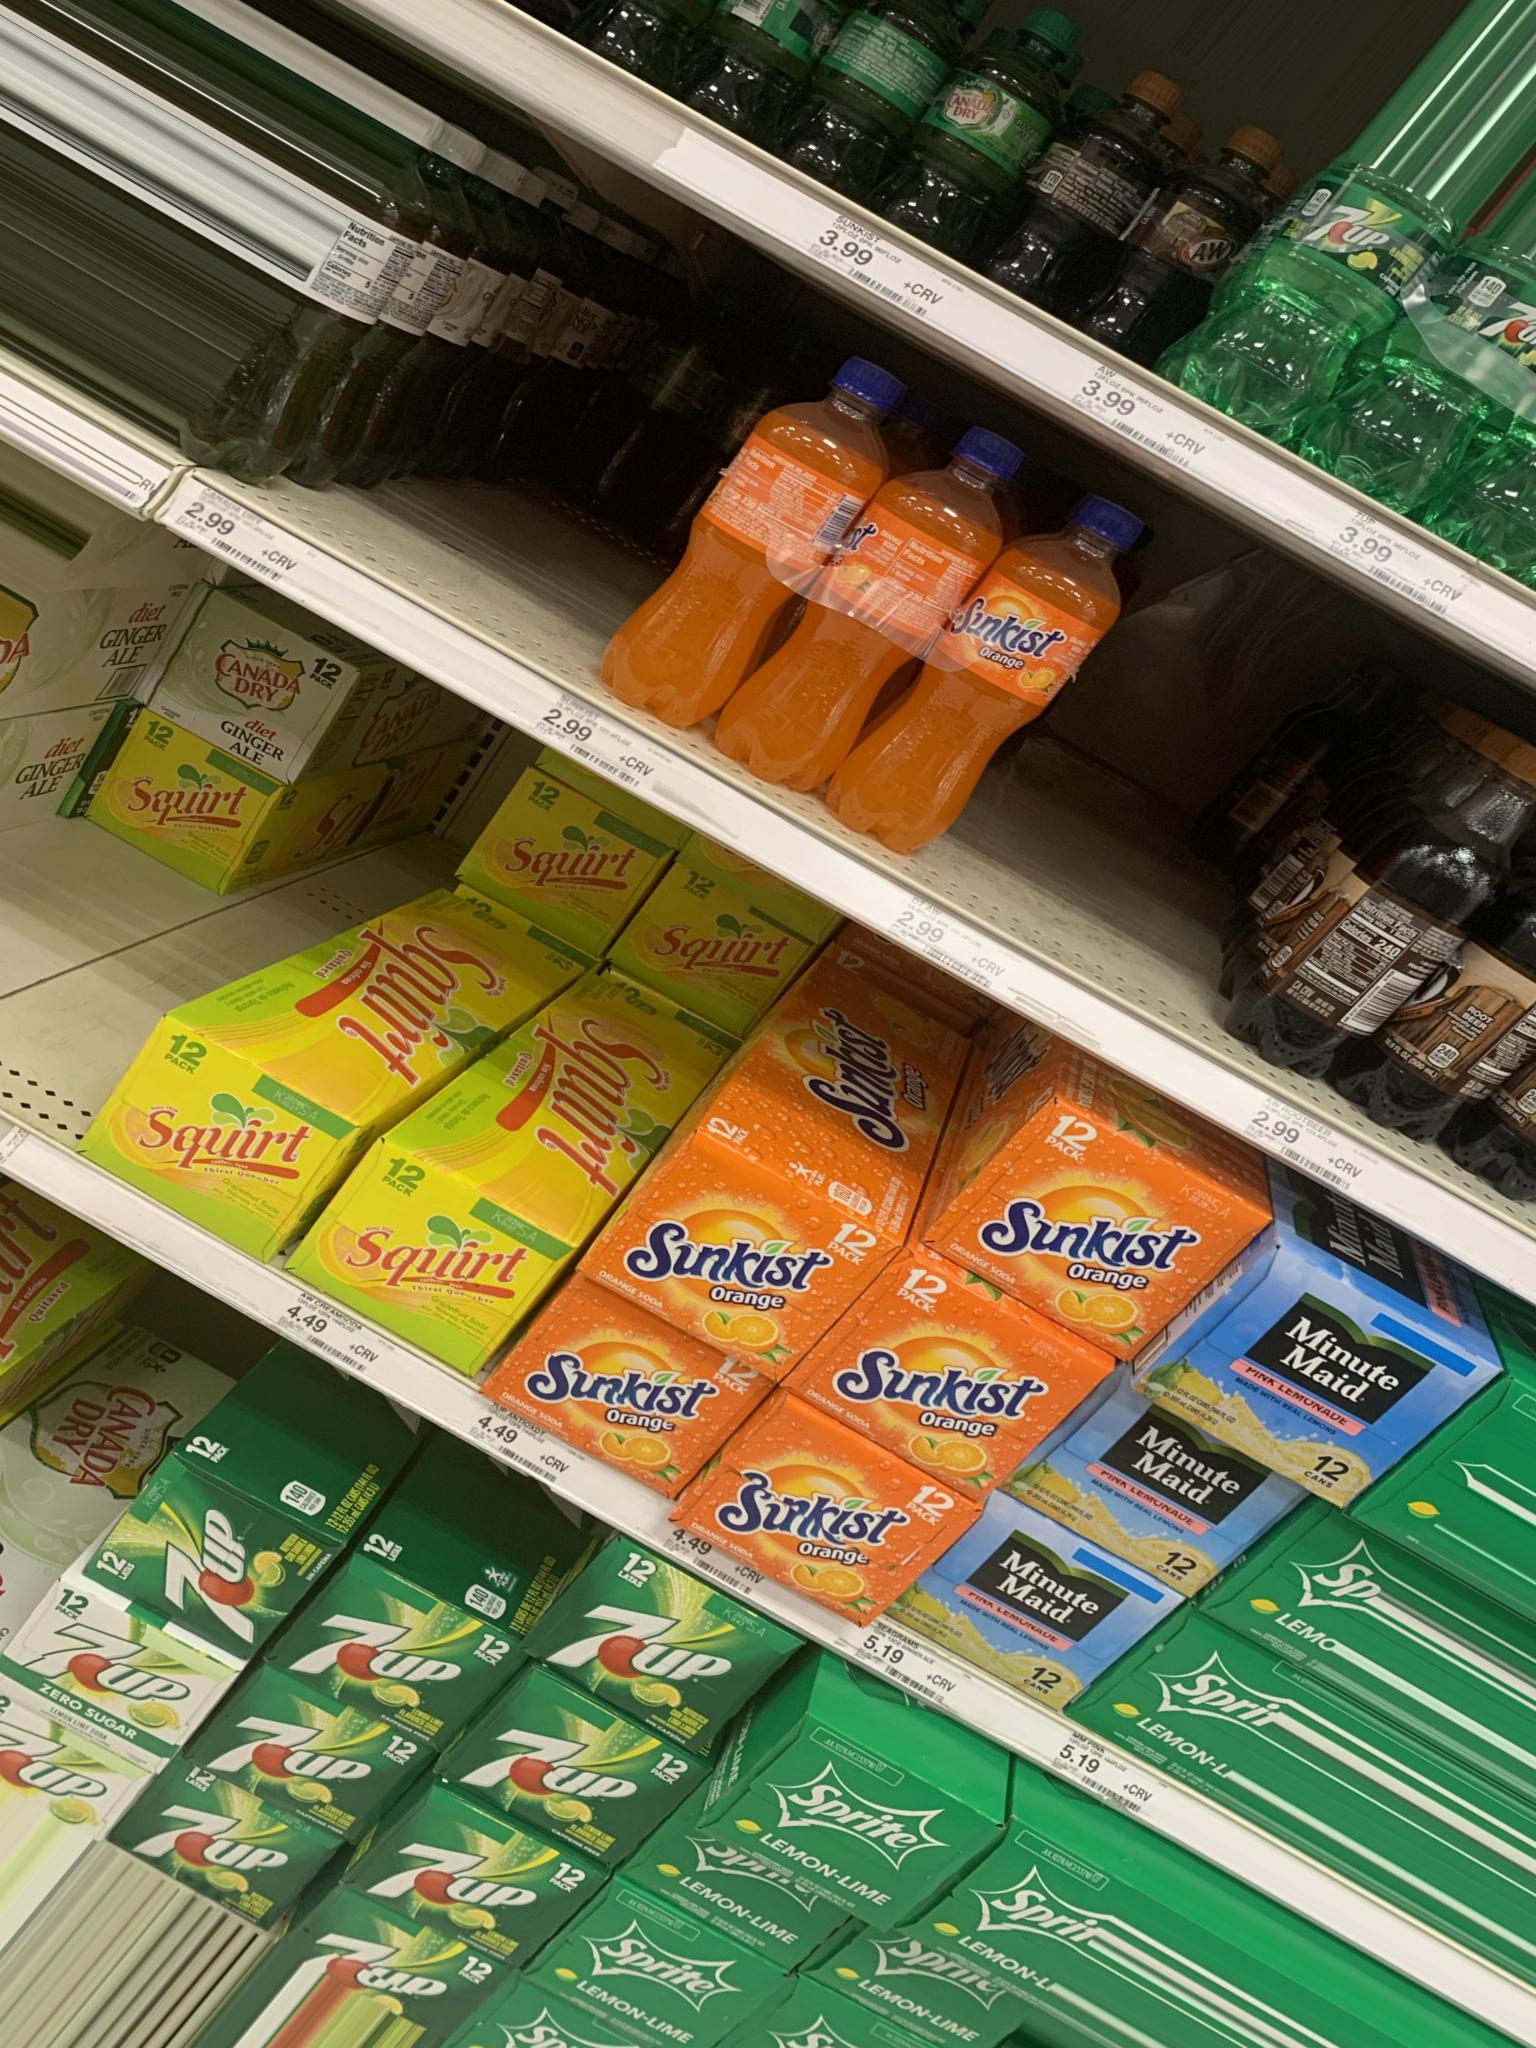soda: (587, 460, 1133, 755), (999, 1084, 1204, 1371), (102, 992, 302, 1243), (655, 1122, 837, 1380), (557, 1566, 752, 1788), (758, 1716, 944, 1937), (552, 1276, 720, 1506), (879, 1268, 1042, 1501), (39, 1558, 190, 1755)
